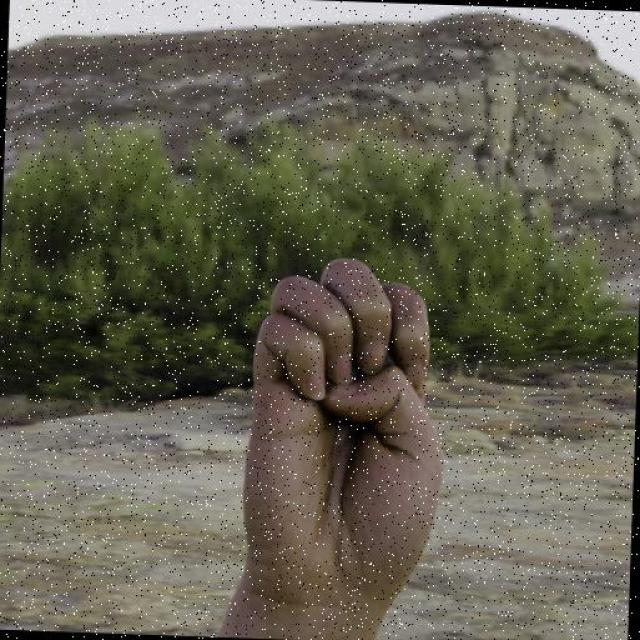E: (235, 253, 454, 612)
